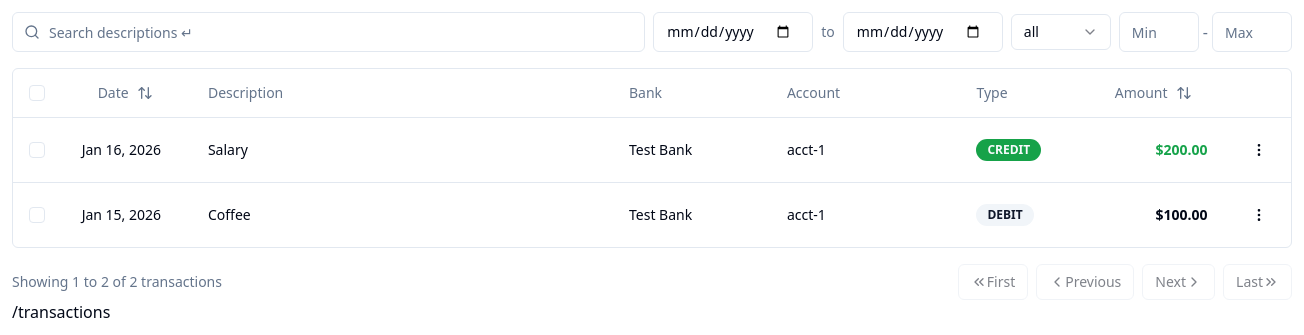
Test: TransactionTable permission gating › hides the Edit action but keeps the select column when transactions:write is missing
Expected: the number of checkboxes is 3, top-left (29, 85), bottom-right (45, 101); top-left (29, 142), bottom-right (45, 158); top-left (29, 206), bottom-right (45, 222)
Step 1. Click the button named "open menu" in the row of "Jan 16, 2026" → coordinates (1259, 150), box top-left (1243, 134), bottom-right (1275, 166)
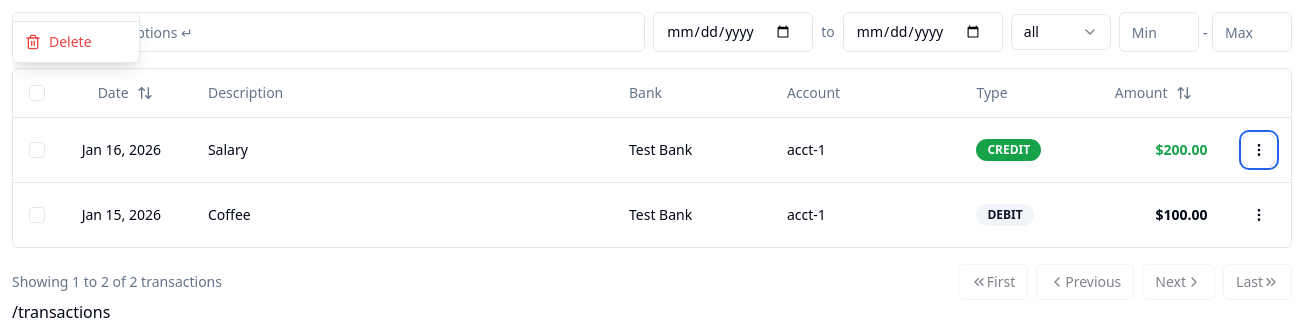
Result: the menu item "Delete" is shown at top-left (17, 26), bottom-right (135, 58)
